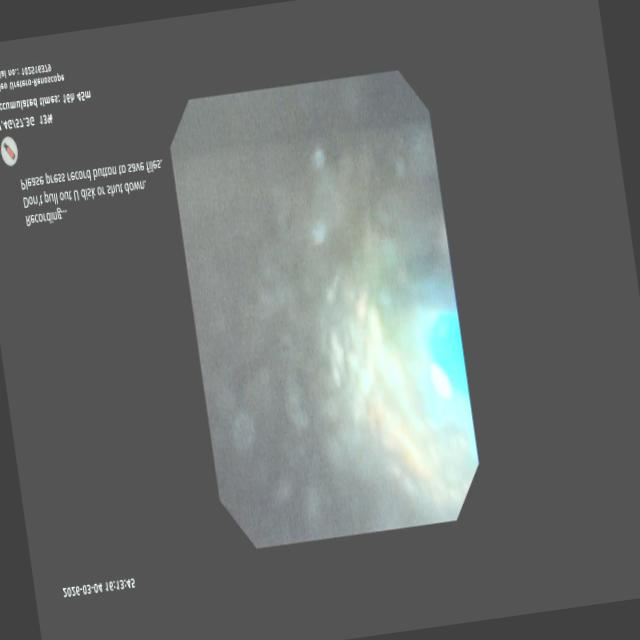stone-new: (171, 113, 475, 548)
